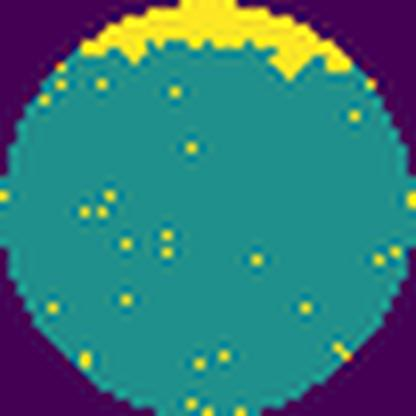Edge-Loc: (77, 0, 356, 73)
